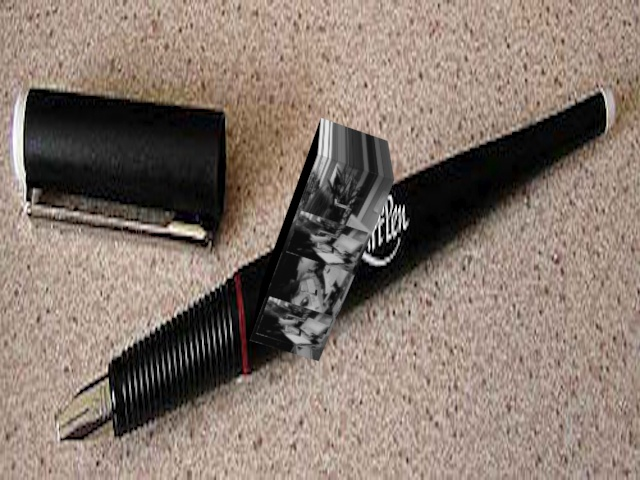file_cabinet: (249, 113, 400, 368)
